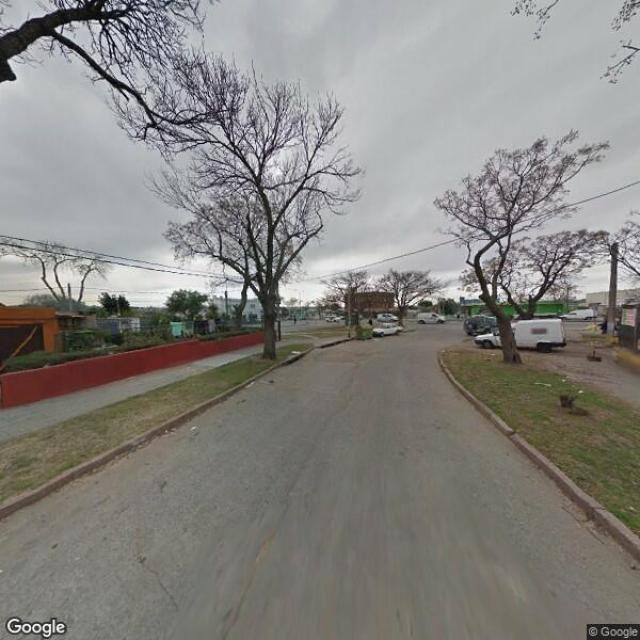garbage container: (353, 321, 378, 342)
